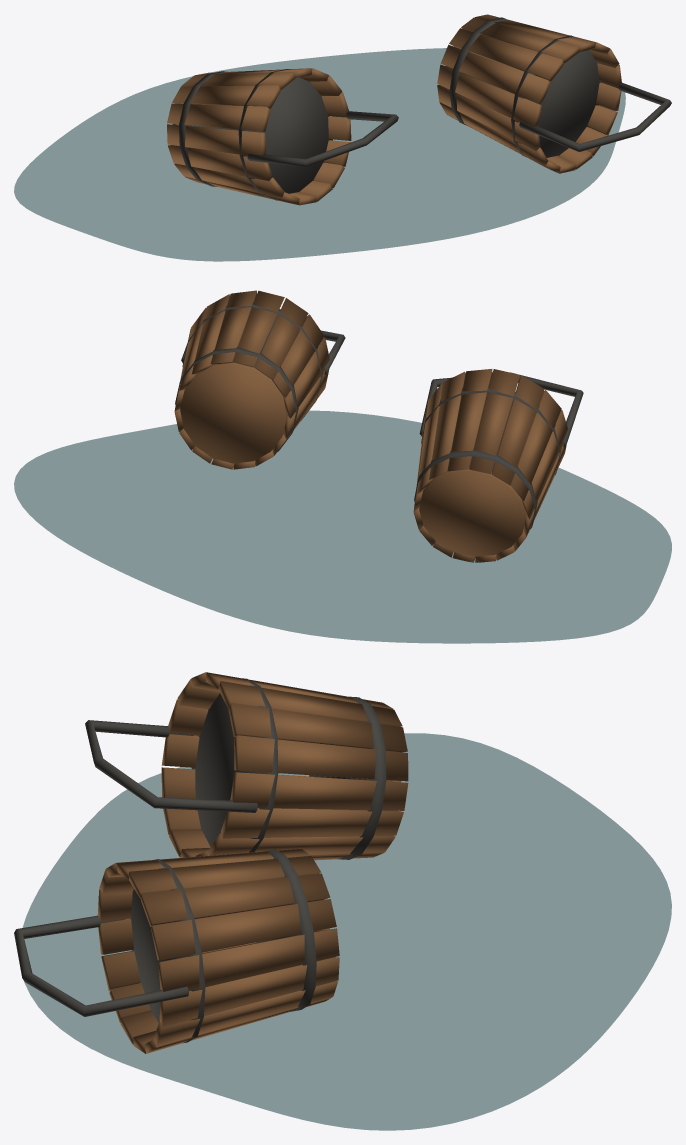
Rendered from jaanne-vesi.glb.
The picture shows the model from 3 angles, top to bottom: view 1: azimuth 30°, elevation 25°; view 2: azimuth 150°, elevation 25°; view 3: azimuth 270°, elevation 25°; orthographic projection. The views are drawn at different scales.
Visible parts, largest first — view 1: wet-puddle, bucket.001, bucket; view 2: wet-puddle, bucket, bucket.001; view 3: wet-puddle, bucket.001, bucket.
Part boxes in pixels (<box>): wet-puddle: <box>14,48,625,261</box>; bucket.001: <box>437,14,671,173</box>; bucket: <box>167,68,398,205</box>; wet-puddle: <box>14,410,671,643</box>; bucket: <box>413,369,583,562</box>; bucket.001: <box>174,290,345,469</box>; wet-puddle: <box>22,733,671,1130</box>; bucket.001: <box>14,848,339,1053</box>; bucket: <box>85,672,408,860</box>.
Size of the model in its own units: 1.45 by 0.3291 by 1.02.
